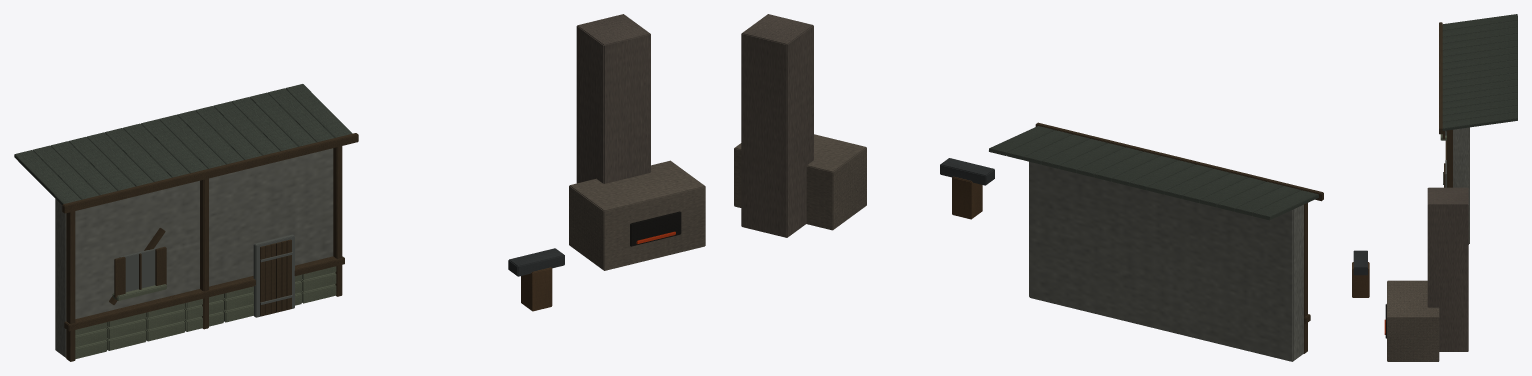
The model's file is industrial-v1.glb.
3 renders of one model, left to right at view 1: azimuth 30°, elevation 25°; view 2: azimuth 150°, elevation 25°; view 3: azimuth 270°, elevation 25°, orthographic. The views are drawn at different scales.
Visible parts, largest first — view 1: Plaster frontage, Overlapping roof board, Forge chimney, Forge hearth, Timber upright, Stone footing, Eave fascia, Door recess, Anvil base, Hearth opening, Anvil; view 2: Plaster frontage, Forge chimney, Overlapping roof board, Forge hearth, Eave fascia, Anvil base, Anvil, Timber upright; view 3: Overlapping roof board, Forge chimney, Forge hearth, Plaster frontage, Anvil base, Timber upright, Eave fascia, Anvil.
Part boxes in pixels (bbox=[...]): Plaster frontage: bbox=[55, 148, 333, 357]; Overlapping roof board: bbox=[14, 84, 352, 204]; Forge chimney: bbox=[576, 14, 650, 183]; Forge hearth: bbox=[569, 160, 705, 270]; Timber upright: bbox=[64, 146, 344, 361]; Stone footing: bbox=[75, 266, 336, 359]; Eave fascia: bbox=[62, 133, 358, 213]; Door recess: bbox=[119, 234, 294, 317]; Anvil base: bbox=[521, 267, 552, 311]; Hearth opening: bbox=[630, 211, 681, 246]; Anvil: bbox=[508, 248, 564, 276]; Plaster frontage: bbox=[1029, 161, 1303, 361]; Forge chimney: bbox=[741, 14, 813, 237]; Overlapping roof board: bbox=[989, 126, 1318, 220]; Forge hearth: bbox=[734, 134, 866, 230]; Eave fascia: bbox=[1035, 122, 1323, 201]; Anvil base: bbox=[952, 176, 982, 219]; Anvil: bbox=[940, 158, 994, 185]; Timber upright: bbox=[1304, 203, 1310, 353]; Overlapping roof board: bbox=[1442, 14, 1517, 130]; Forge chimney: bbox=[1427, 187, 1468, 351]; Forge hearth: bbox=[1387, 280, 1439, 361]; Plaster frontage: bbox=[1453, 127, 1469, 244]; Anvil base: bbox=[1352, 262, 1369, 297]; Timber upright: bbox=[1442, 129, 1452, 187]; Eave fascia: bbox=[1439, 22, 1442, 134]; Anvil: bbox=[1353, 250, 1367, 275].
Size of what is drawn, in the model's own units: 17.82 by 5.6 by 5.7.
11 materials, 10 textured.
